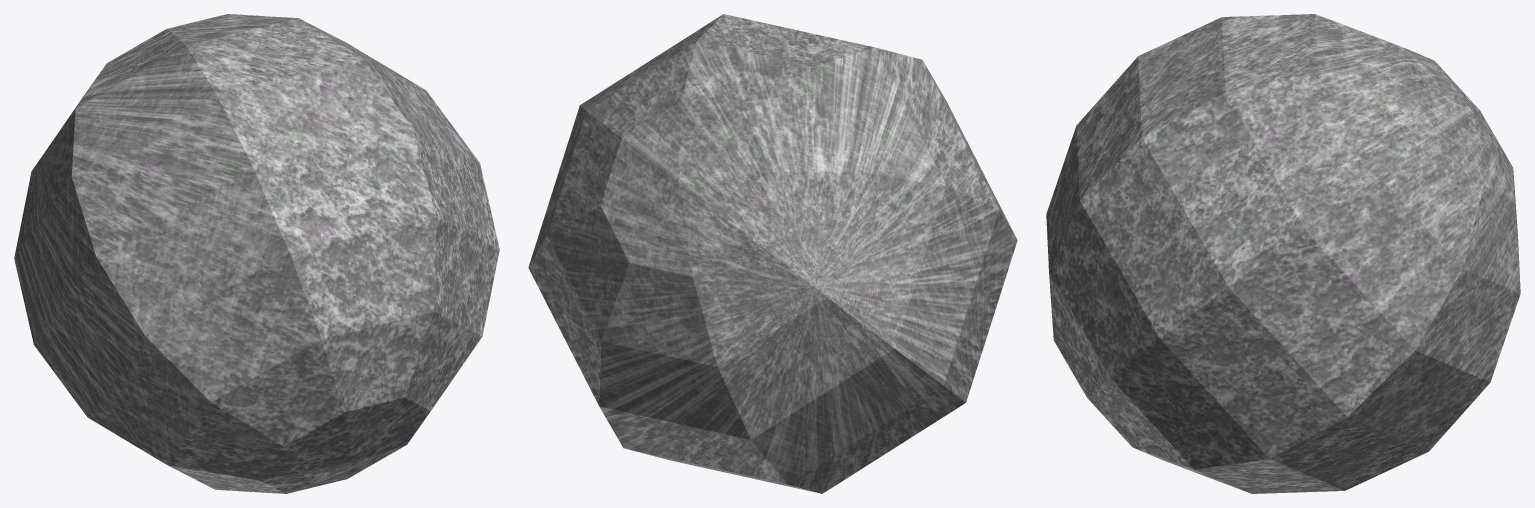
File: Bolardo.fbx
3 renders of one model, left to right at view 1: azimuth 30°, elevation 25°; view 2: azimuth 150°, elevation 25°; view 3: azimuth 270°, elevation 25°, orthographic.
Visible parts, largest first — view 1: root; view 2: root; view 3: root.
Part boxes in pixels (x1,y1,x2,y2): root: (14,14,499,493); root: (528,14,1017,493); root: (1046,14,1520,493).
Bounding box in the file's own units: 0.4772 × 0.4896 × 0.4947.
Materials: 1 (1 with a texture image).
